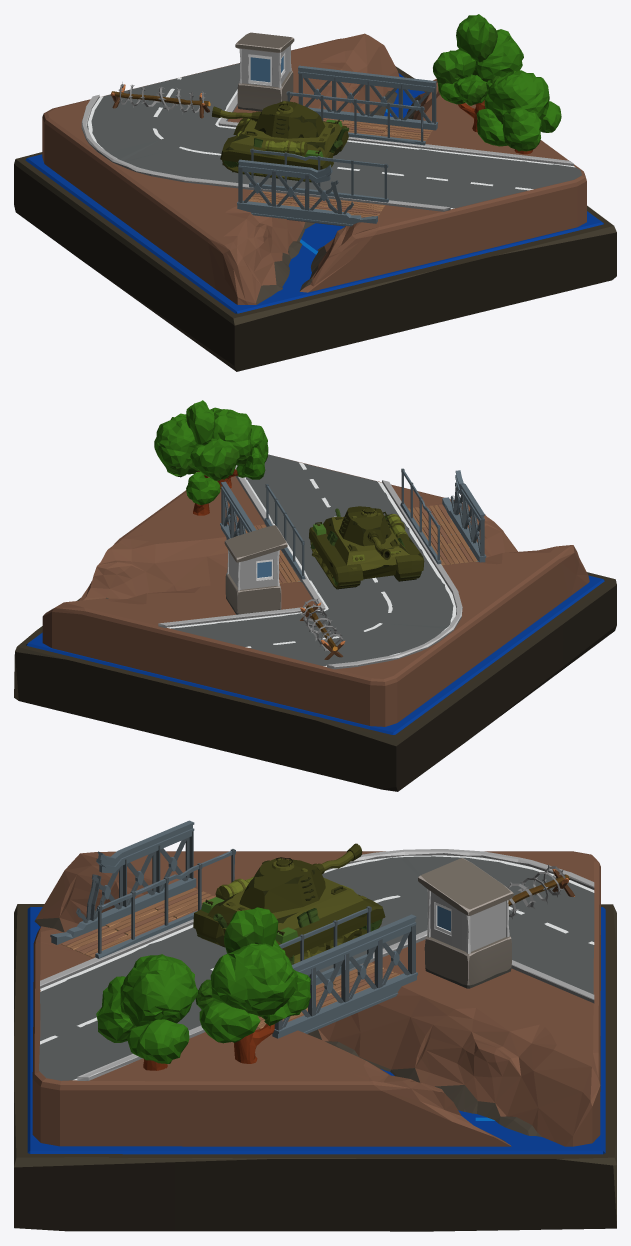
Rendered from Stage008.fbx.
3 views of the same model, one above another, from view 1: azimuth 30°, elevation 25°; view 2: azimuth 150°, elevation 25°; view 3: azimuth 270°, elevation 25° (orthographic). The views are drawn at different scales.
Visible parts, largest first — view 1: Stage008; view 2: Stage008; view 3: Stage008.
Part boxes in pixels (x1,y1,x2,y2): Stage008: [14, 14, 616, 371]; Stage008: [14, 400, 616, 791]; Stage008: [14, 820, 616, 1231].
Bounding box in the file's own units: 38.48 × 20.39 × 38.48.
Materials: 1 (1 with a texture image).
